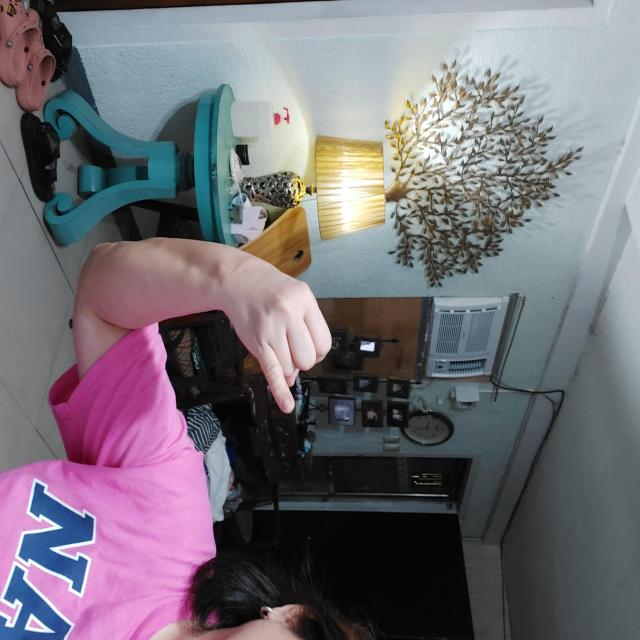J: (259, 307, 415, 420)
